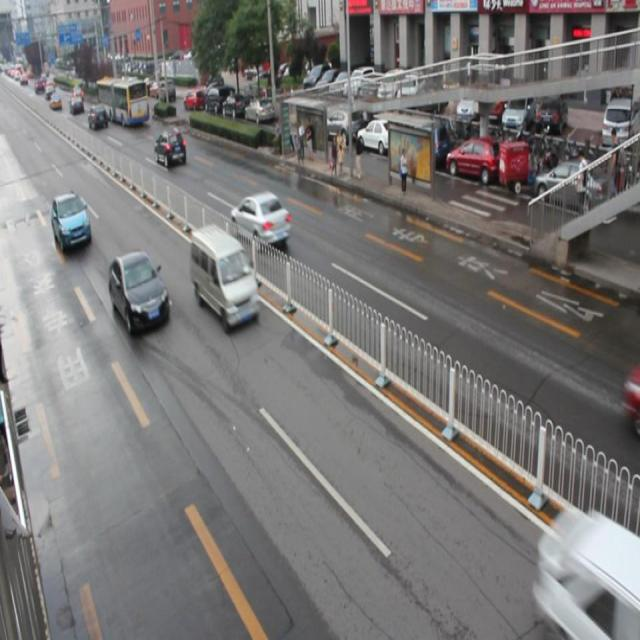car: (536, 506, 640, 640), (108, 250, 169, 332), (230, 192, 290, 248), (52, 192, 90, 250), (154, 131, 186, 166)
truck: (187, 224, 258, 329)
